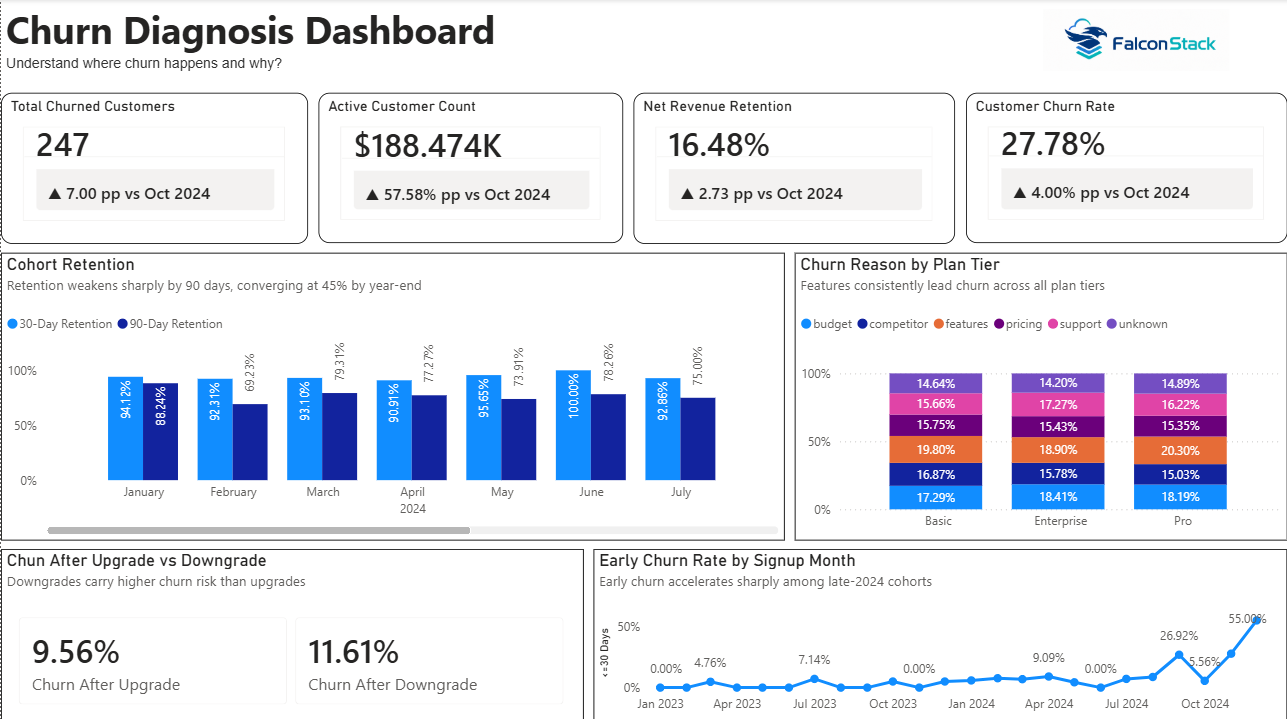

The page's visual inventory and layout, read from the dashboard file:
{"tool":"powerbi","page":{"name":"Churn Diagnosis Dashboard","canvas":[1280,720],"ordinal":1},"visuals":[{"type":"textbox","box":[0,0,640.1,81],"z":0},{"type":"cardVisual","title":"Total Churned Customers","fields":{"Data":["customer_churn_rate_vw.Total_Churn_Count"]},"box":[0,92.9,305.7,150],"z":1000},{"type":"cardVisual","title":"Net Revenue Retention","fields":{"Data":["customer_churn_rate_vw.CurrChurnPercent"]},"box":[630,92.9,320,150],"z":2000},{"type":"cardVisual","title":"Customer Churn Rate","fields":{"Data":["early_churn_rate_vw.CurrEarlyChurnPercnt"]},"box":[960.6,93.3,319.7,149.6],"z":3000},{"type":"cardVisual","title":"Active Customer Count","fields":{"Data":["mrr_components_vw.ChurnedMRR"]},"box":[316,93.3,303.5,149.3],"z":4000},{"type":"image","box":[980.5,9.6,299.5,61.8],"z":5000},{"type":"lineChart","title":"Early Churn Rate by Signup Month","fields":{"Category":["early_churn_rate_vw.mnth.Variation.Date Hierarchy.Year","early_churn_rate_vw.mnth.Variation.Date Hierarchy.Quarter","early_churn_rate_vw.mnth.Variation.Date Hierarchy.Month","early_churn_rate_vw.mnth.Variation.Date Hierarchy.Day"],"Y":["Sum(early_churn_rate_vw.early_churn_percnt %)"]},"box":[589.6,547.3,690.4,172.9],"z":6000},{"type":"clusteredColumnChart","title":"Cohort Retention","fields":{"Category":["cohort_retention_vw.mnth.Variation.Date Hierarchy.Year","cohort_retention_vw.mnth.Variation.Date Hierarchy.Month"],"Y":["cohort_retention_vw.only_30_2024","cohort_retention_vw.only_90_2024"]},"box":[0,252.5,780,286.1],"z":7000},{"type":"cardVisual","title":"Chun After Upgrade vs Downgrade ","fields":{"Data":["subscription_tbl.upgrade_churn_percnt","subscription_tbl.downgrade_churn_percnt"]},"box":[0,547.3,579.7,172.9],"z":8000},{"type":"columnChart","title":"Churn Reason by Plan Tier","fields":{"Category":["churn_reason_per_tier.plan_tier"],"Y":["Sum(churn_reason_per_tier.reason_count_ratio)"],"Series":["churn_reason_per_tier.reason_code"]},"box":[789.9,252.5,490.1,286.1],"z":9000}]}

Visuals, with their boxes in screenshot pixels (x1, y1, x2, y2), scaled from the page's 1280x720 canvas onto the 1287x719 screenshot:
textbox: bbox(0, 0, 644, 81)
"Total Churned Customers" cardVisual: bbox(0, 93, 307, 243)
"Net Revenue Retention" cardVisual: bbox(633, 93, 955, 243)
"Customer Churn Rate" cardVisual: bbox(966, 93, 1286, 243)
"Active Customer Count" cardVisual: bbox(318, 93, 623, 242)
image: bbox(986, 10, 1286, 71)
"Early Churn Rate by Signup Month" lineChart: bbox(593, 547, 1286, 718)
"Cohort Retention" clusteredColumnChart: bbox(0, 252, 784, 538)
"Chun After Upgrade vs Downgrade " cardVisual: bbox(0, 547, 583, 718)
"Churn Reason by Plan Tier" columnChart: bbox(794, 252, 1286, 538)
